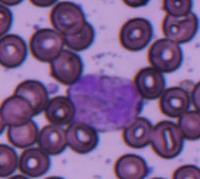E: (66, 72, 141, 132)
